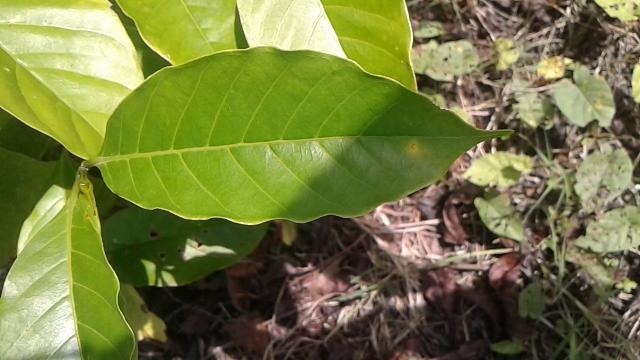rust_level_1: (95, 45, 526, 226)
